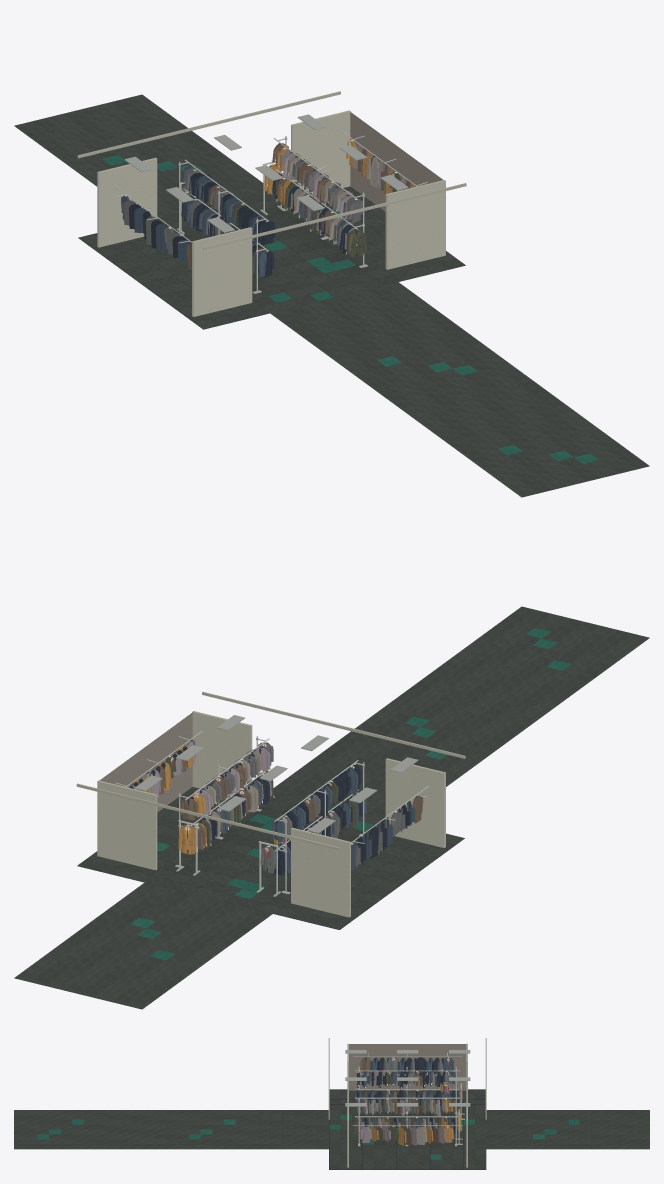
Rendered from suiting-aisle.glb.
3 renders of one model, top to bottom at view 1: azimuth 30°, elevation 25°; view 2: azimuth 150°, elevation 25°; view 3: azimuth 270°, elevation 25°, orthographic. The views are drawn at different scales.
Parts seen in each view (by area): view 1: SuitingAisle; view 2: SuitingAisle; view 3: SuitingAisle.
Boxes of the visible parts, <box> form: SuitingAisle: <box>14,91,649,497</box>; SuitingAisle: <box>14,606,649,1009</box>; SuitingAisle: <box>14,1038,649,1169</box>.
Bounding box in the file's own units: 10.04 × 3 × 33.6.
1 material, 1 textured.
